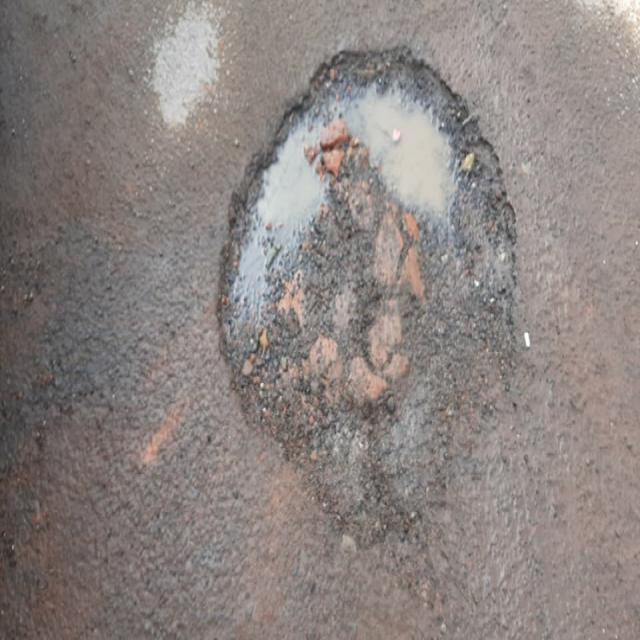Pothole: (178, 26, 552, 583)
